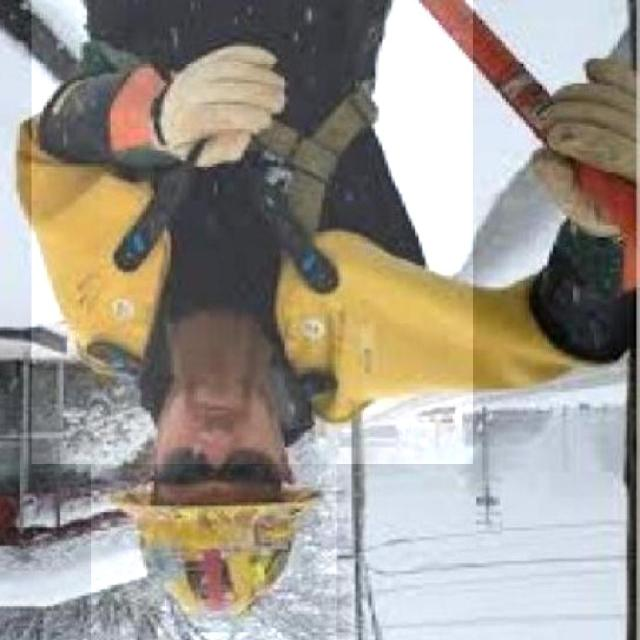Helmet: (31, 0, 473, 464), (91, 452, 337, 640)
